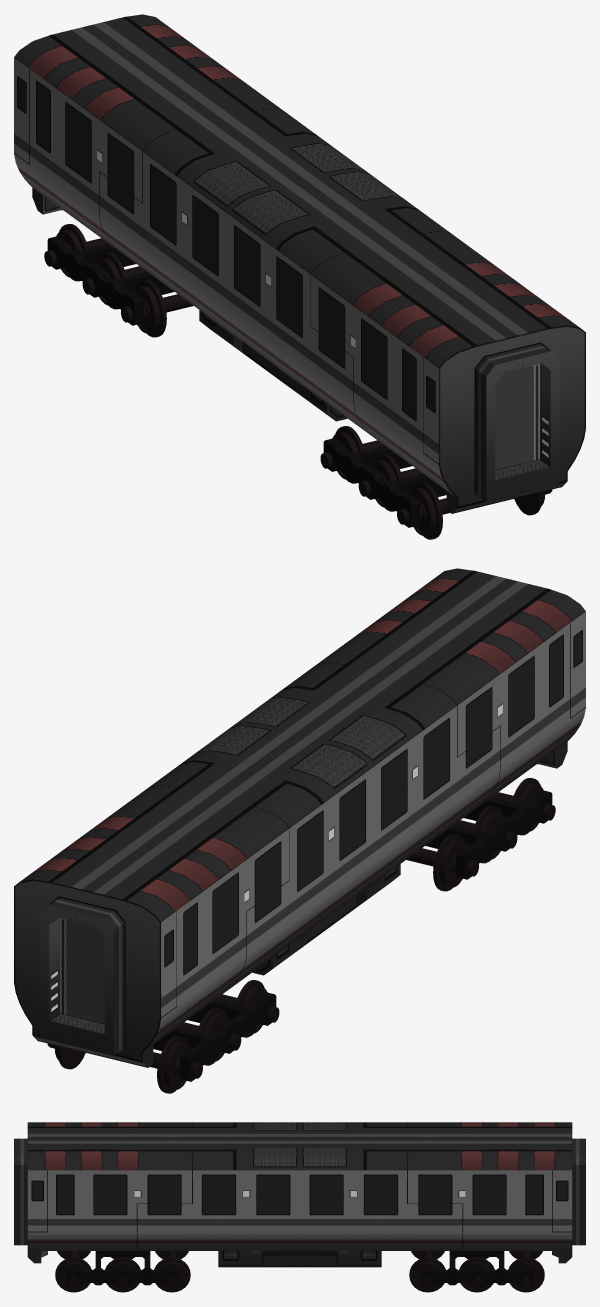
Rendered from carriage_002.fbx.
The picture shows the model from 3 angles, top to bottom: view 1: azimuth 30°, elevation 25°; view 2: azimuth 150°, elevation 25°; view 3: azimuth 270°, elevation 25°; orthographic projection. The views are drawn at different scales.
Visible parts, largest first — view 1: main, undercarriage_002, undercarriage_001, wheels6, wheels3, wheels1, wheels5, wheels4, wheels2; view 2: main, undercarriage_001, undercarriage_002, wheels1, wheels4, wheels6, wheels2, wheels3, wheels5; view 3: main, undercarriage_001, undercarriage_002, wheels3, wheels4, wheels1, wheels6, wheels2, wheels5.
Part boxes in pixels (x1,y1,x2,y2): main: [14, 14, 585, 513]; undercarriage_002: [323, 438, 552, 527]; undercarriage_001: [47, 236, 174, 325]; wheels6: [397, 482, 545, 539]; wheels3: [121, 280, 193, 337]; wheels1: [44, 224, 108, 281]; wheels5: [358, 454, 422, 511]; wheels4: [320, 426, 384, 483]; wheels2: [82, 252, 146, 309]; main: [14, 568, 585, 1067]; undercarriage_001: [47, 992, 276, 1081]; undercarriage_002: [425, 790, 552, 879]; wheels1: [54, 1036, 202, 1093]; wheels4: [406, 834, 478, 891]; wheels6: [491, 778, 555, 835]; wheels2: [177, 1008, 241, 1065]; wheels3: [215, 980, 279, 1037]; wheels5: [453, 806, 517, 863]; main: [14, 1122, 585, 1267]; undercarriage_001: [421, 1251, 532, 1287]; undercarriage_002: [67, 1251, 178, 1287]; wheels3: [409, 1251, 445, 1292]; wheels4: [154, 1251, 190, 1292]; wheels1: [508, 1251, 544, 1292]; wheels6: [55, 1251, 91, 1292]; wheels2: [459, 1257, 494, 1292]; wheels5: [105, 1257, 140, 1292].
Bounding box in the file's own units: 410 × 558 × 2100.
